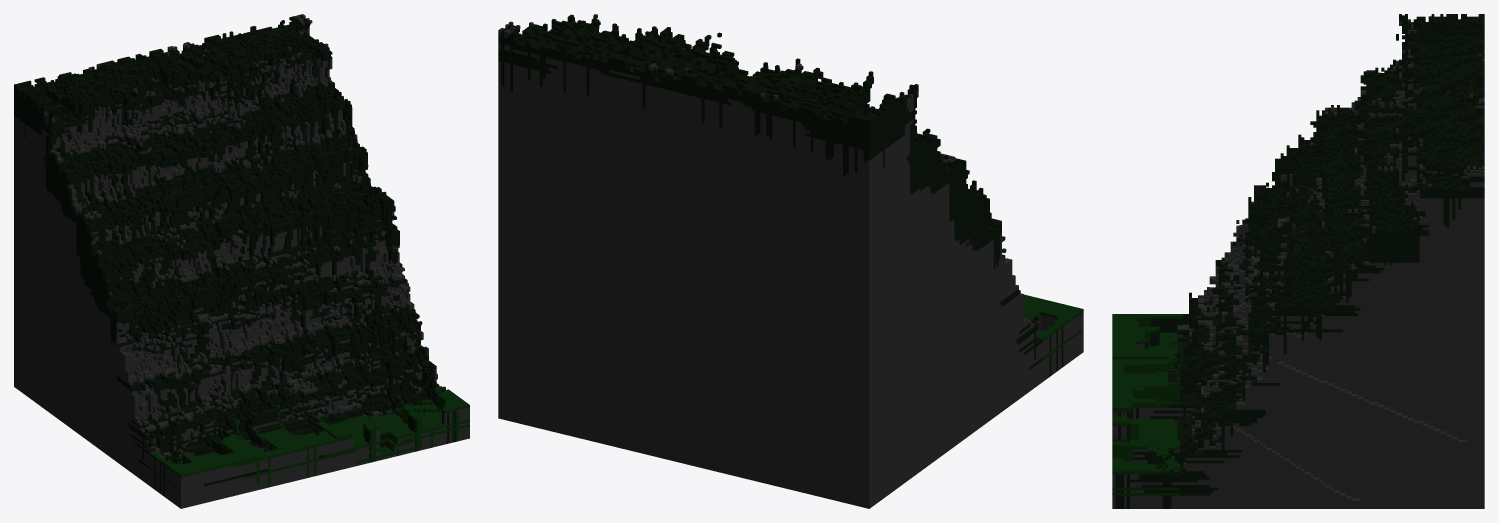
File: map-60.obj
3 views of the same model, side by side, from view 1: azimuth 30°, elevation 25°; view 2: azimuth 150°, elevation 25°; view 3: azimuth 270°, elevation 25° (orthographic). The views are drawn at different scales.
Parts seen in each view (by area): view 1: map-60; view 2: map-60; view 3: map-60.
Boxes of the visible parts, bbox=[...] form: map-60: bbox=[14, 14, 469, 508]; map-60: bbox=[498, 14, 1083, 508]; map-60: bbox=[1112, 14, 1484, 508].
Bounding box in the file's own units: 126 × 126 × 126.
Materials: 1 (1 with a texture image).
